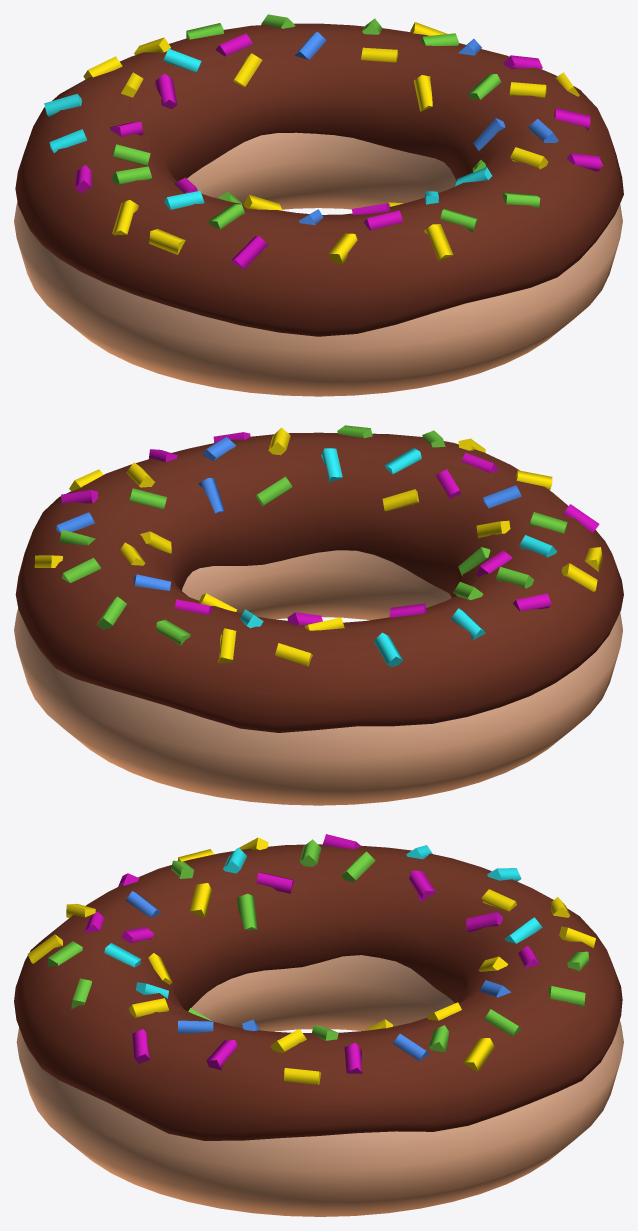
The model's file is Donut_06.glb.
3 views of the same model, one above another, from view 1: azimuth 30°, elevation 25°; view 2: azimuth 150°, elevation 25°; view 3: azimuth 270°, elevation 25° (orthographic).
Visible parts, largest first — view 1: Donut_06; view 2: Donut_06; view 3: Donut_06.
Boxes of the visible parts, <box> form: Donut_06: <box>14,14,623,396</box>; Donut_06: <box>14,425,623,805</box>; Donut_06: <box>14,834,623,1216</box>.
Bounding box in the file's own units: 10.72 × 3.43 × 10.68.
2 materials, 2 textured.
